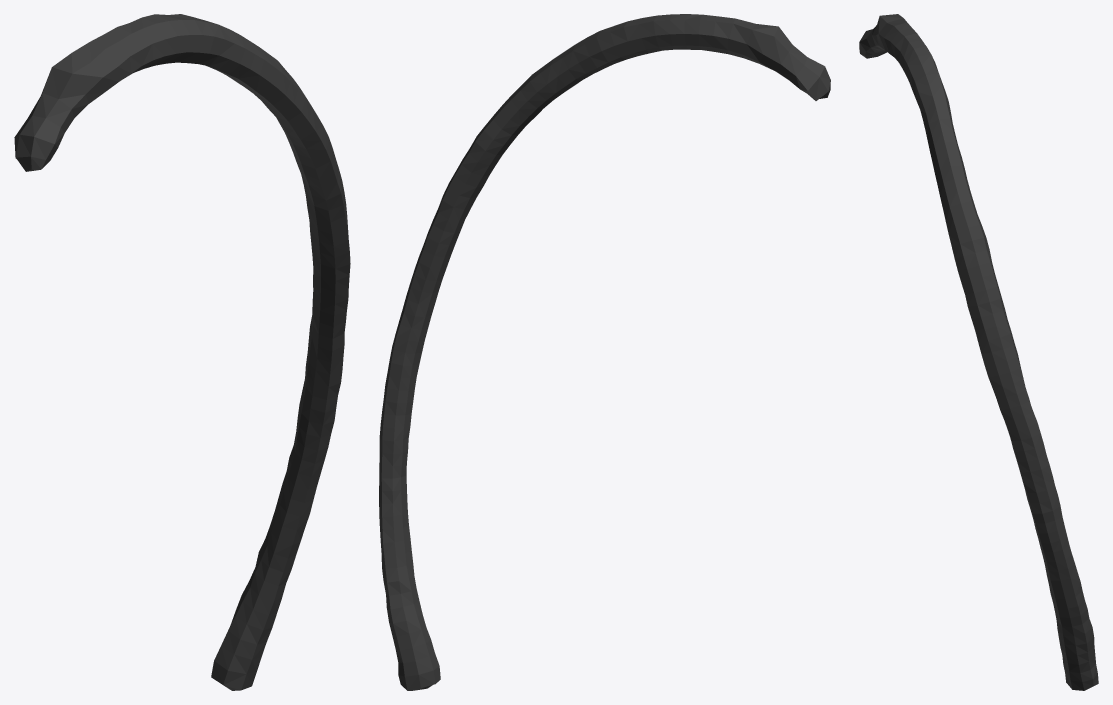
The model's file is Rib_8.glb.
3 renders of one model, left to right at view 1: azimuth 30°, elevation 25°; view 2: azimuth 150°, elevation 25°; view 3: azimuth 270°, elevation 25°, orthographic. The views are drawn at different scales.
Parts seen in each view (by area): view 1: Rib_8; view 2: Rib_8; view 3: Rib_8.
Part boxes in pixels (x1=…): Rib_8: x1=14, y1=14, x2=350, y2=690; Rib_8: x1=379, y1=14, x2=830, y2=690; Rib_8: x1=859, y1=14, x2=1098, y2=690.
Bounding box in the file's own units: 4.82 × 8.51 × 3.22.
Materials: 1 (1 with a texture image).
